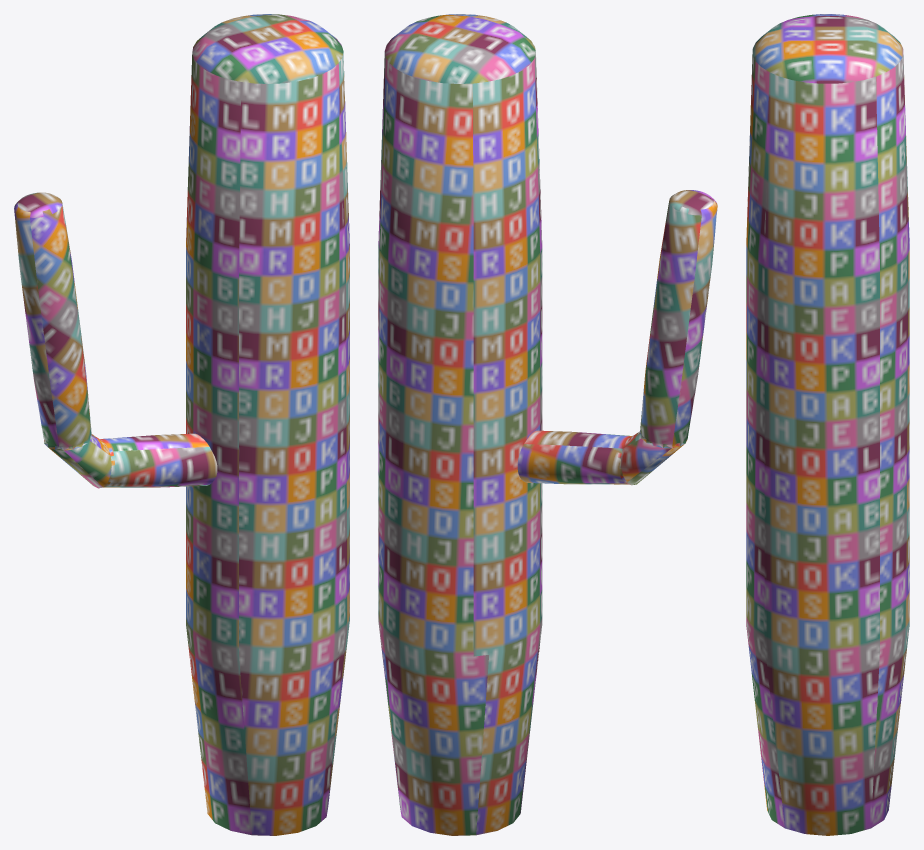
Rendered from Cacti_1.obj.
3 views of the same model, side by side, from view 1: azimuth 30°, elevation 25°; view 2: azimuth 150°, elevation 25°; view 3: azimuth 270°, elevation 25° (orthographic).
Visible parts, largest first — view 1: Cylinder1, Cylinder1_sep2; view 2: Cylinder1, Cylinder1_sep2; view 3: Cylinder1.
Part boxes in pixels (<box>): Cylinder1: <box>186,14,349,835</box>; Cylinder1_sep2: <box>14,192,217,488</box>; Cylinder1: <box>378,14,542,835</box>; Cylinder1_sep2: <box>517,190,717,485</box>; Cylinder1: <box>746,14,909,835</box>.
Bounding box in the file's own units: 4.48 × 10.28 × 1.96.
1 material, 1 textured.
